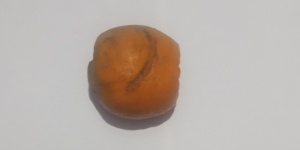BAD: (95, 24, 181, 119)
